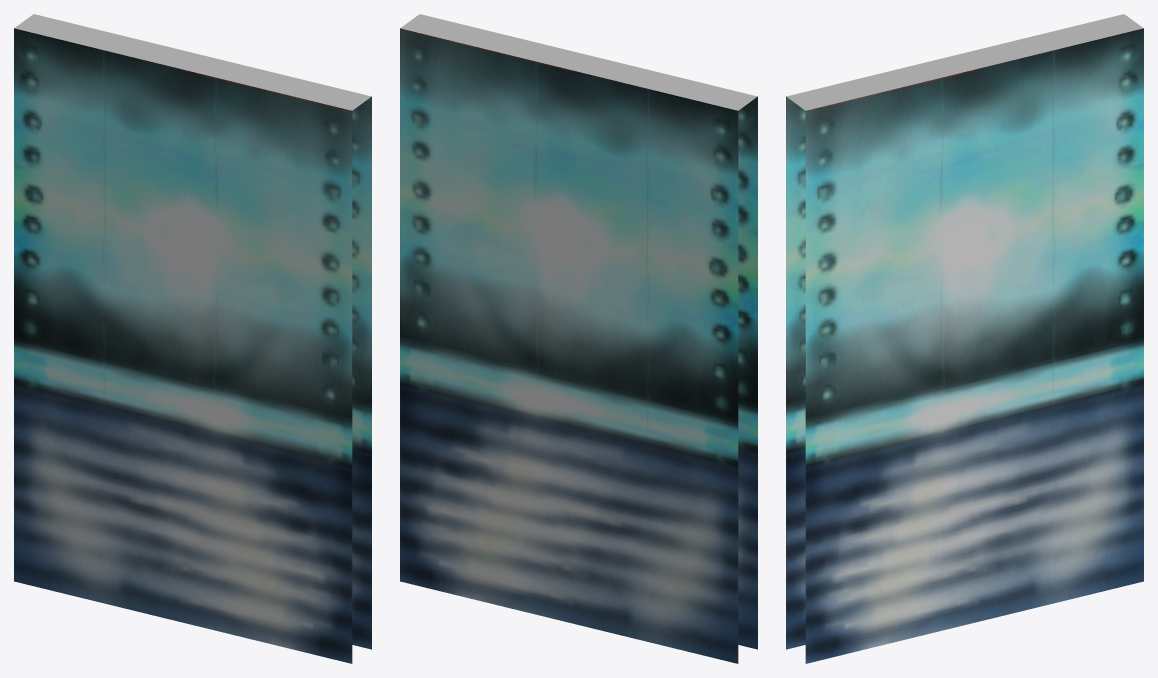
The model's file is Polizei_Wand_K21_2551.glb.
3 renders of one model, left to right at view 1: azimuth 30°, elevation 25°; view 2: azimuth 210°, elevation 25°; view 3: azimuth 270°, elevation 25°, orthographic.
Visible parts, largest first — view 1: pPlaneShape336, pPlaneShape335, polySurfaceShape1110; view 2: pPlaneShape335, pPlaneShape336, polySurfaceShape1110; view 3: pPlaneShape335, pPlaneShape336, polySurfaceShape1110.
Boxes of the visible parts, x1,y1,x2,y2 form: pPlaneShape336: [14, 28, 352, 663]; pPlaneShape335: [352, 96, 371, 649]; polySurfaceShape1110: [14, 14, 371, 110]; pPlaneShape335: [400, 28, 738, 663]; pPlaneShape336: [738, 96, 757, 649]; polySurfaceShape1110: [400, 14, 757, 110]; pPlaneShape335: [805, 28, 1143, 663]; pPlaneShape336: [786, 96, 805, 649]; polySurfaceShape1110: [786, 14, 1143, 110].
Size of the model in its own units: 0.1461 by 0.3891 by 0.2281.
3 materials, 2 textured.
